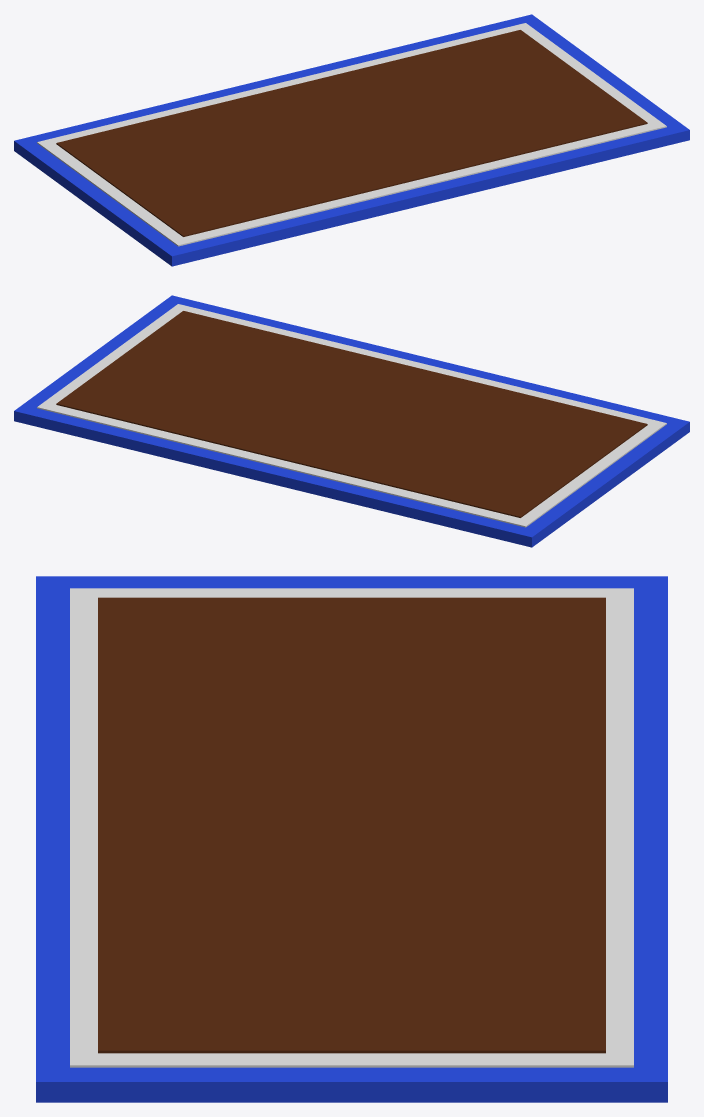
Rendered from beet.fbx.
3 views of the same model, one above another, from view 1: azimuth 30°, elevation 25°; view 2: azimuth 150°, elevation 25°; view 3: azimuth 270°, elevation 25° (orthographic). The views are drawn at different scales.
Parts seen in each view (by area): view 1: Cube2, Cube3, Cube; view 2: Cube2, Cube3, Cube; view 3: Cube2, Cube3, Cube.
Boxes of the visible parts, x1=… form: Cube2: x1=56, y1=30, x2=647, y2=236; Cube3: x1=14, y1=14, x2=689, y2=266; Cube: x1=37, y1=23, x2=666, y2=246; Cube2: x1=56, y1=311, x2=647, y2=517; Cube3: x1=14, y1=295, x2=689, y2=547; Cube: x1=37, y1=304, x2=666, y2=527; Cube2: x1=98, y1=597, x2=605, y2=1053; Cube3: x1=36, y1=576, x2=667, y2=1102; Cube: x1=70, y1=588, x2=633, y2=1067.
Size of the model in its own units: 1060 by 30 by 560.
